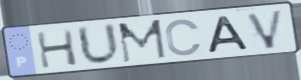A: (207, 14, 252, 55)
C: (163, 17, 204, 58)
H: (34, 27, 81, 70)
M: (116, 17, 169, 65)
U: (74, 21, 123, 67)
V: (244, 7, 286, 51)
